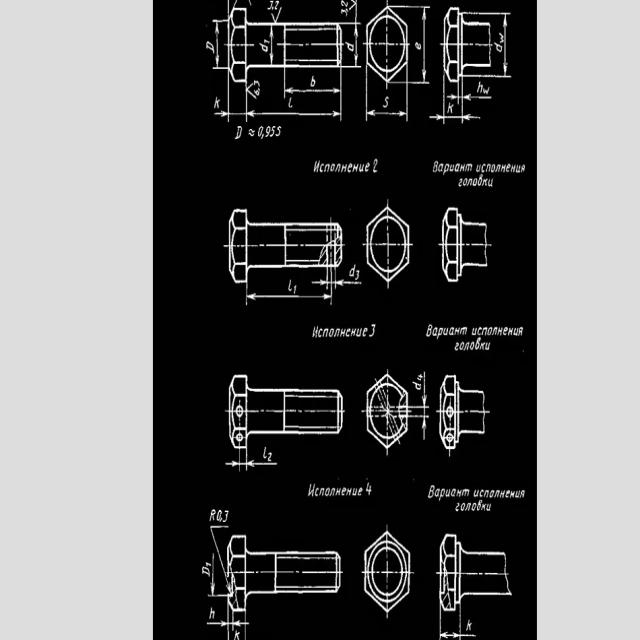marking_line: (244, 83, 344, 122), (249, 272, 334, 306), (428, 85, 480, 125), (282, 69, 343, 101), (245, 285, 337, 305), (408, 6, 431, 85), (364, 84, 409, 123), (492, 10, 514, 80), (210, 525, 229, 592), (206, 553, 230, 596), (211, 17, 229, 70), (343, 22, 362, 71), (213, 73, 231, 124), (461, 80, 494, 105), (410, 372, 429, 410), (245, 450, 280, 470), (333, 268, 362, 289), (409, 414, 430, 442), (465, 68, 514, 79), (464, 11, 513, 20), (309, 269, 329, 288), (225, 451, 242, 470), (445, 84, 459, 104), (269, 25, 274, 64), (205, 620, 228, 626), (234, 620, 249, 627)
numeric: (365, 482, 373, 498), (368, 322, 376, 337), (223, 509, 230, 525), (258, 125, 264, 138), (373, 159, 378, 174), (270, 126, 276, 138), (341, 9, 349, 18), (216, 509, 222, 520), (267, 450, 273, 461), (265, 126, 271, 137), (275, 126, 281, 137), (253, 80, 261, 88), (267, 0, 273, 10), (416, 373, 423, 381), (342, 0, 349, 8), (253, 88, 260, 96), (274, 0, 279, 9), (264, 38, 270, 45)
special_symbol: (271, 7, 282, 23), (348, 0, 356, 10), (248, 128, 256, 136)
